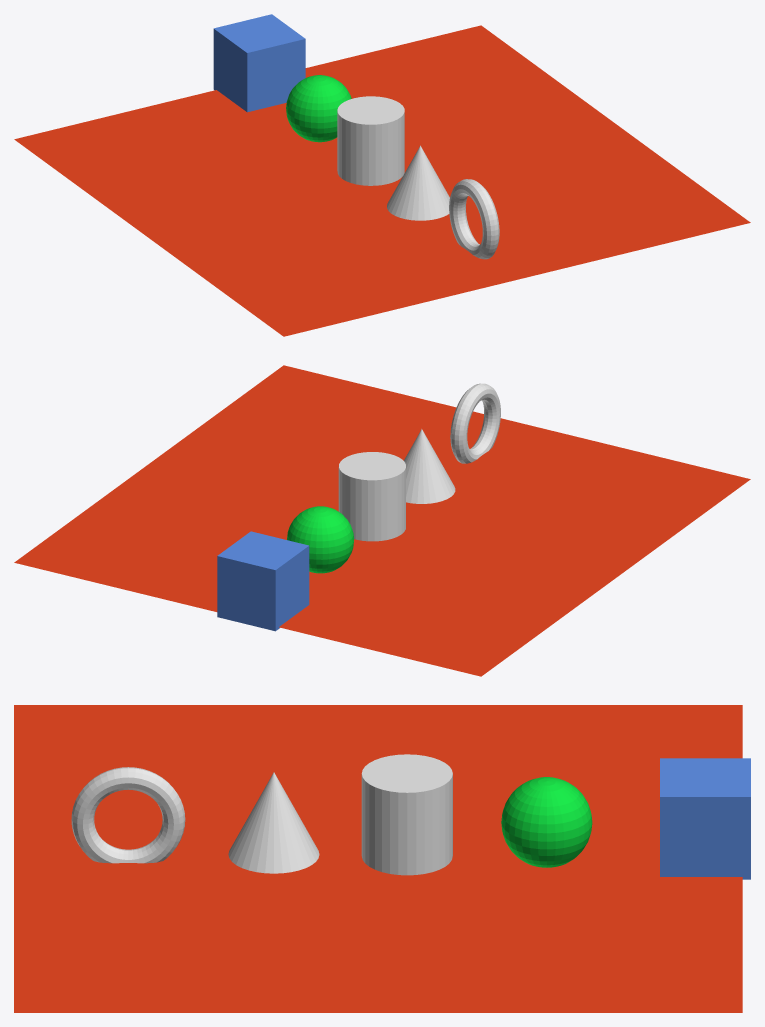
The model's file is Demo.glb.
The picture shows the model from 3 angles, top to bottom: view 1: azimuth 30°, elevation 25°; view 2: azimuth 150°, elevation 25°; view 3: azimuth 270°, elevation 25°; orthographic projection. The views are drawn at different scales.
Parts seen in each view (by area): view 1: Plane, Cube, Cylinder, Sphere, Cone, Torus; view 2: Plane, Cube, Cylinder, Sphere, Torus, Cone; view 3: Plane, Cube, Cylinder, Sphere, Torus, Cone.
Part boxes in pixels (left/top/right/bottom): Plane: left=14, top=25, right=750, bottom=336; Cube: left=213, top=14, right=305, bottom=112; Cylinder: left=337, top=96, right=404, bottom=185; Sphere: left=286, top=75, right=351, bottom=142; Cone: left=387, top=145, right=449, bottom=220; Torus: left=449, top=179, right=499, bottom=259; Plane: left=14, top=365, right=750, bottom=676; Cube: left=217, top=531, right=309, bottom=631; Cylinder: left=338, top=452, right=405, bottom=541; Sphere: left=287, top=506, right=353, bottom=573; Torus: left=450, top=383, right=500, bottom=463; Cone: left=404, top=429, right=455, bottom=503; Plane: left=14, top=705, right=742, bottom=1012; Cube: left=660, top=758, right=750, bottom=879; Cylinder: left=361, top=754, right=452, bottom=875; Sphere: left=501, top=777, right=592, bottom=867; Torus: left=71, top=767, right=185, bottom=863; Cone: left=228, top=772, right=319, bottom=873.
Size of the model in its own units: 16 by 2.5 by 16.18.
